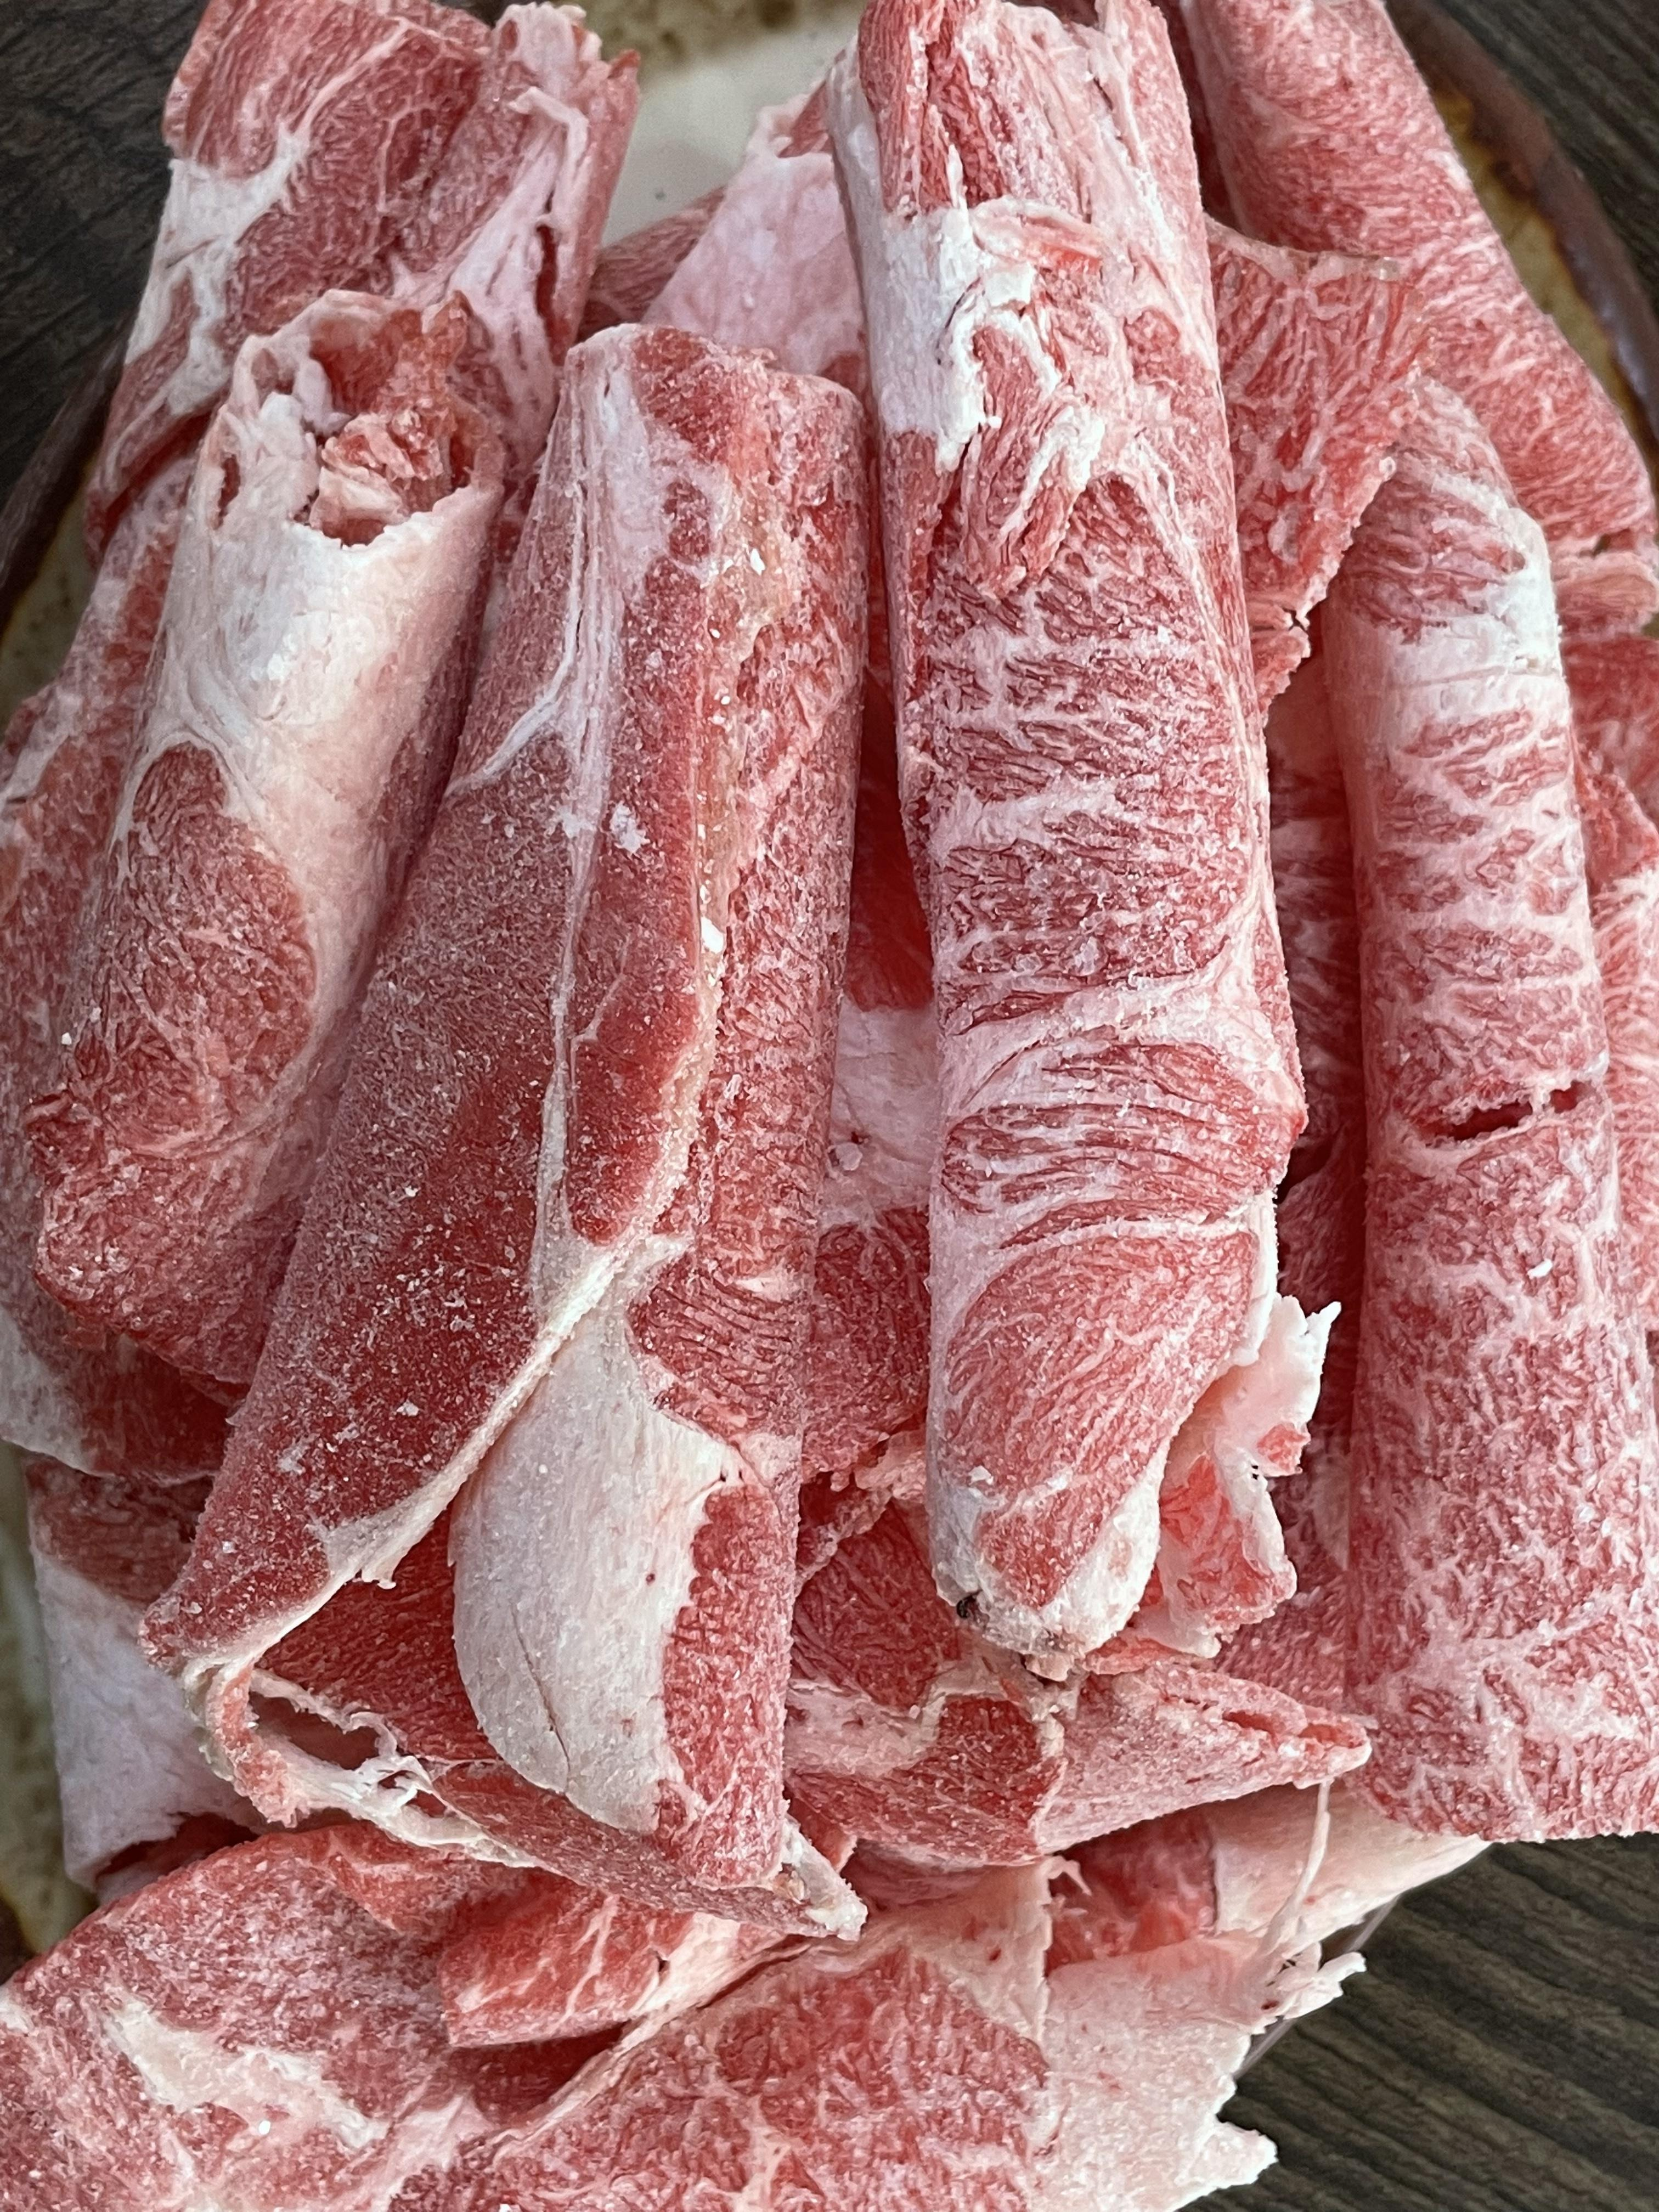beef: (830, 1106, 1659, 2212), (847, 1106, 1659, 2212), (1066, 1106, 1659, 2212)
